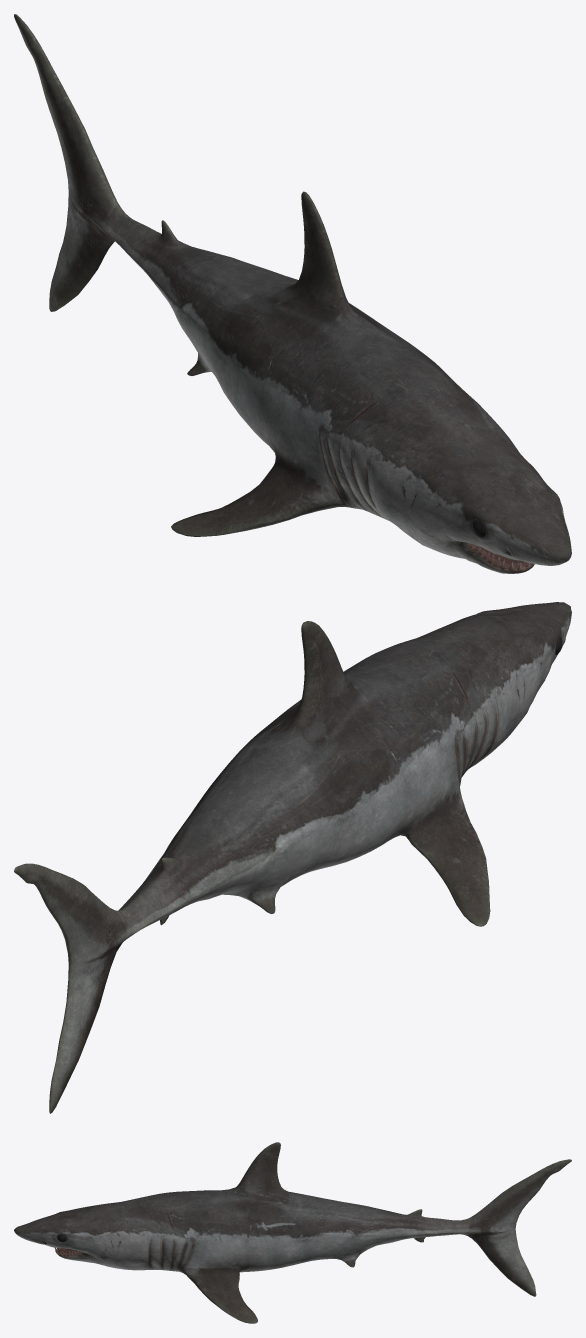
3 renders of one model, top to bottom at view 1: azimuth 30°, elevation 25°; view 2: azimuth 150°, elevation 25°; view 3: azimuth 270°, elevation 25°, orthographic. The views are drawn at different scales.
Visible parts, largest first — view 1: Object_2; view 2: Object_2; view 3: Object_2.
Boxes of the visible parts, x1,y1,x2,y2 form: Object_2: (14, 14, 571, 573); Object_2: (14, 602, 571, 1113); Object_2: (14, 1142, 571, 1323).
Bounding box in the file's own units: 24.74 × 23.23 × 76.02.
Materials: 1 (1 with a texture image).
